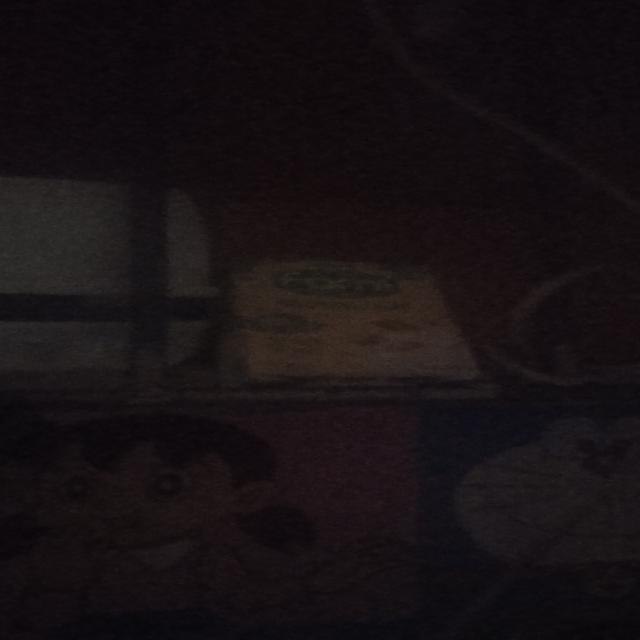Fami: (228, 258, 483, 389)
